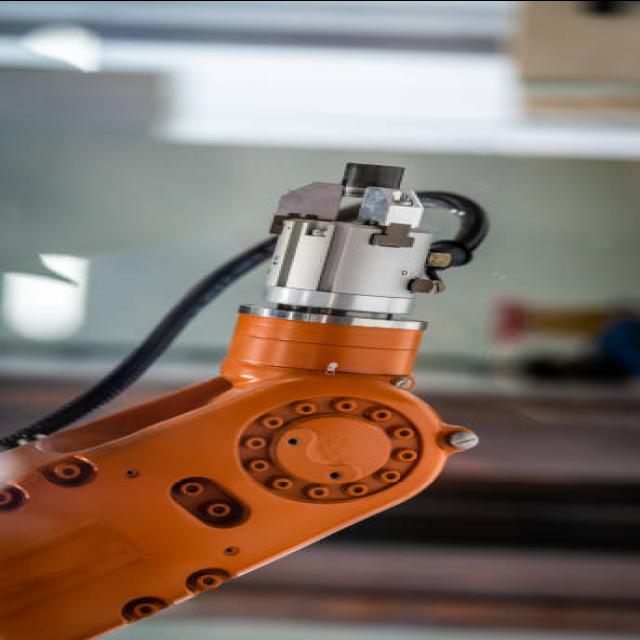Robotic-arm: (4, 156, 503, 640)
